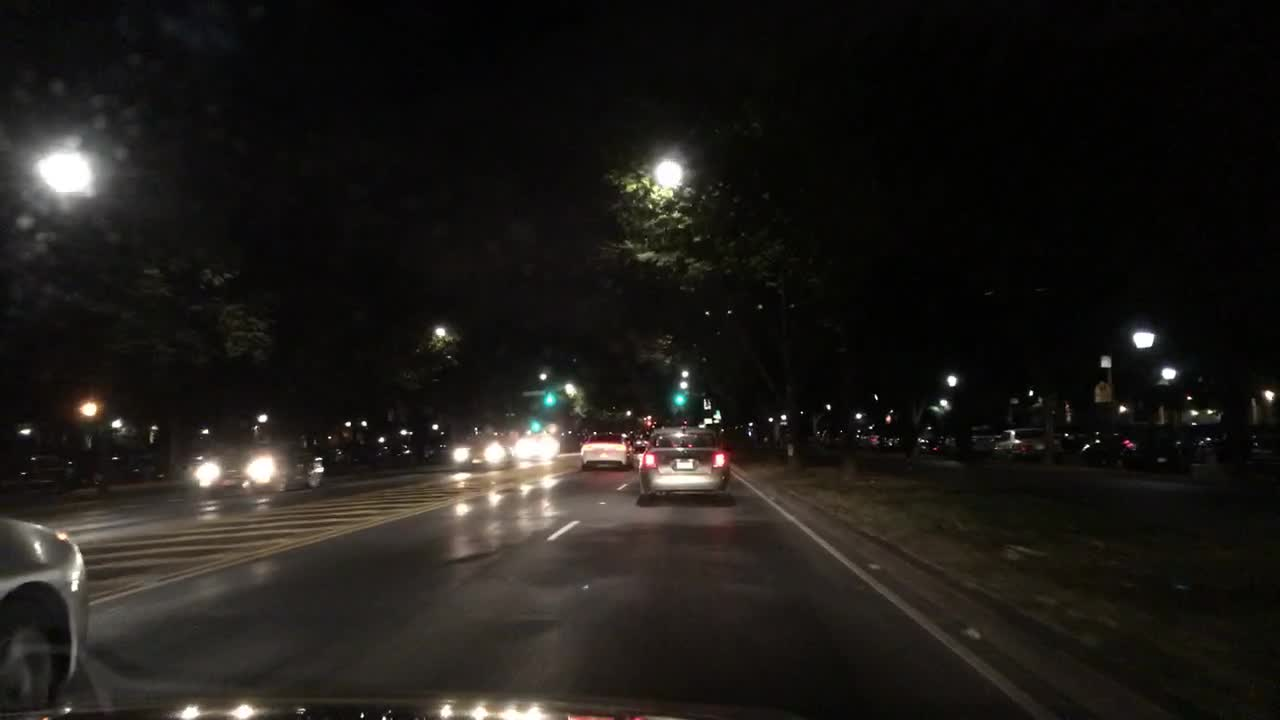car: (0, 512, 87, 718), (192, 436, 324, 496), (636, 430, 733, 502), (1076, 420, 1199, 475), (14, 454, 88, 487), (992, 426, 1058, 459), (579, 431, 634, 469), (449, 435, 505, 469), (945, 426, 1005, 450), (857, 420, 908, 447), (513, 432, 561, 459), (368, 441, 421, 465), (761, 417, 795, 443), (326, 442, 355, 470), (915, 432, 942, 454), (1197, 434, 1221, 450), (634, 434, 652, 450), (741, 423, 755, 440), (812, 426, 827, 438)
traffic light: (541, 392, 555, 410), (673, 386, 682, 408), (528, 419, 540, 434)
traffic sign: (1095, 381, 1113, 401), (1099, 356, 1111, 365), (702, 396, 711, 408)
